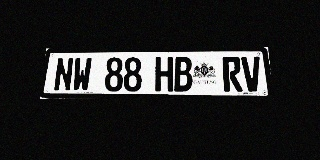8: (104, 57, 124, 91), (123, 57, 142, 91)
B: (174, 57, 193, 91)
H: (155, 57, 173, 91)
N: (53, 57, 74, 91)
R: (222, 57, 243, 92)
V: (241, 56, 263, 92)
W: (72, 57, 92, 91)
